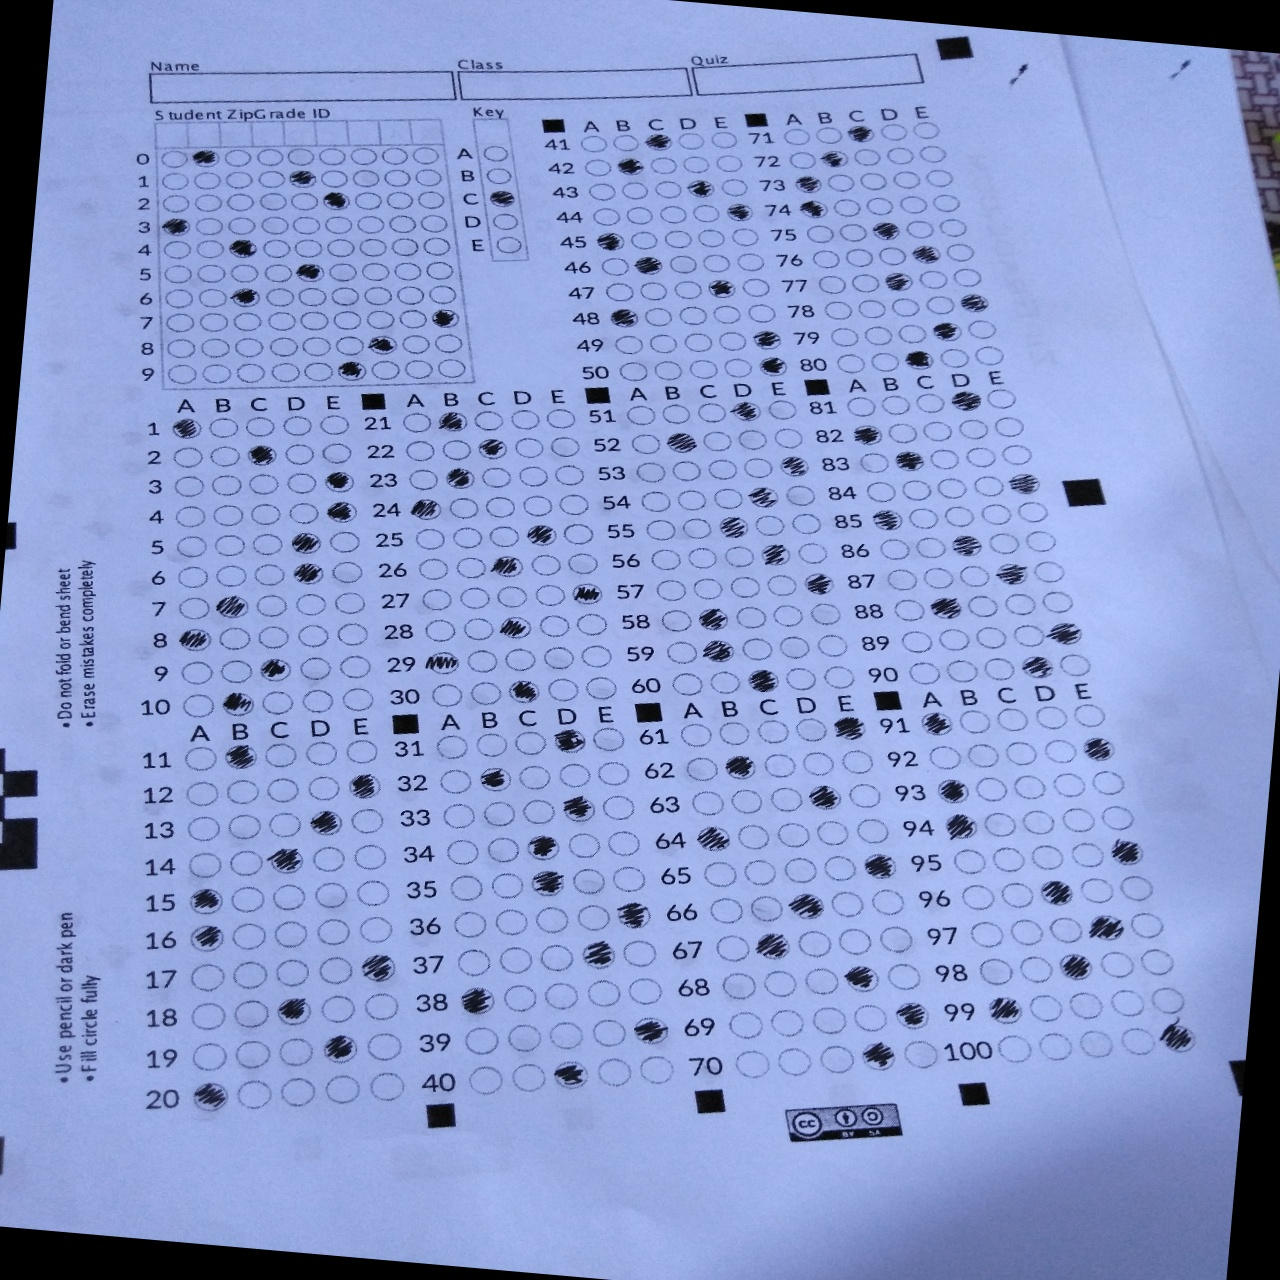not-c: (1148, 982, 1194, 1017), (1026, 990, 1073, 1026), (1105, 986, 1150, 1022), (989, 1032, 1034, 1068), (1133, 942, 1179, 978), (804, 1002, 850, 1037), (726, 1046, 771, 1081), (1073, 1028, 1119, 1062), (723, 1007, 768, 1042), (1061, 988, 1105, 1023), (516, 795, 561, 829), (360, 1029, 406, 1063), (763, 1005, 809, 1039), (769, 1046, 815, 1080), (448, 908, 492, 942), (482, 833, 526, 867), (537, 941, 581, 975), (451, 945, 496, 979), (320, 1073, 365, 1107), (361, 990, 406, 1024), (635, 1051, 680, 1085), (544, 1017, 588, 1051), (588, 1016, 633, 1050), (898, 1039, 942, 1073), (715, 971, 760, 1005), (849, 999, 893, 1033), (975, 955, 1020, 989), (1114, 1024, 1158, 1058), (1030, 1029, 1075, 1063), (1096, 949, 1141, 983), (825, 887, 870, 921), (591, 1054, 636, 1087), (353, 876, 396, 910), (608, 862, 652, 896), (530, 903, 573, 937), (227, 956, 271, 990), (188, 998, 231, 1032), (232, 996, 275, 1030), (227, 920, 271, 954), (188, 960, 231, 994), (736, 855, 779, 888), (801, 964, 844, 998), (771, 817, 815, 851), (515, 763, 559, 796), (571, 900, 615, 933), (561, 829, 606, 862), (498, 981, 543, 1014), (459, 1023, 504, 1056), (272, 956, 316, 989), (365, 1070, 409, 1103), (277, 1076, 321, 1109), (313, 992, 358, 1024), (313, 953, 358, 986), (311, 917, 355, 949), (308, 879, 353, 912), (350, 914, 395, 947), (884, 960, 928, 993), (876, 922, 920, 955), (851, 813, 896, 846), (709, 931, 754, 964), (1022, 840, 1067, 873), (1005, 915, 1049, 948), (1068, 699, 1112, 731), (492, 905, 535, 939), (227, 883, 270, 917), (813, 1043, 857, 1076), (604, 826, 647, 859), (597, 792, 640, 825), (567, 864, 611, 897), (484, 870, 527, 903), (506, 1061, 550, 1094), (493, 945, 537, 978), (232, 1039, 275, 1071), (620, 938, 663, 971), (626, 976, 669, 1009), (266, 881, 309, 914), (268, 919, 312, 952), (778, 853, 822, 886), (794, 926, 837, 959), (832, 925, 876, 958), (818, 853, 862, 886), (503, 1022, 547, 1054), (274, 1037, 319, 1069), (1076, 874, 1121, 906), (1126, 910, 1171, 941), (949, 880, 994, 912), (742, 893, 787, 925), (964, 920, 1009, 951), (465, 1063, 508, 1096), (188, 1040, 230, 1073), (581, 976, 624, 1009), (812, 815, 855, 847), (539, 980, 583, 1012), (1067, 837, 1110, 869), (1043, 915, 1087, 947), (1015, 954, 1058, 986), (988, 845, 1032, 877), (716, 971, 760, 1002), (1115, 874, 1159, 905), (993, 878, 1037, 908), (234, 1080, 277, 1111), (731, 821, 774, 852), (866, 885, 908, 917), (704, 896, 748, 926), (695, 859, 738, 890), (948, 847, 992, 878), (757, 968, 801, 999), (592, 726, 634, 756), (682, 753, 722, 784), (690, 576, 730, 607), (815, 631, 855, 662), (905, 659, 945, 690), (222, 776, 263, 806), (448, 872, 489, 903), (821, 661, 862, 692), (772, 633, 813, 663), (968, 622, 1009, 653), (260, 741, 302, 770), (433, 733, 475, 762), (186, 851, 229, 880), (182, 813, 224, 843), (348, 806, 390, 836), (471, 730, 513, 760), (436, 765, 478, 795), (799, 749, 839, 779), (971, 774, 1010, 804), (839, 747, 879, 777), (845, 781, 885, 811), (1019, 804, 1058, 835), (994, 704, 1034, 735), (1058, 804, 1098, 835), (1049, 769, 1089, 799), (1088, 767, 1128, 797), (1098, 802, 1138, 832), (688, 788, 728, 818), (805, 600, 845, 631), (653, 605, 693, 635), (659, 638, 699, 668), (934, 624, 974, 654), (897, 625, 937, 655), (979, 654, 1019, 685), (794, 538, 833, 568), (789, 510, 829, 540), (302, 772, 343, 802), (554, 762, 595, 791), (513, 729, 554, 758), (444, 837, 485, 866), (440, 803, 481, 832), (764, 785, 805, 815), (964, 741, 1005, 770), (1032, 703, 1073, 733), (1056, 649, 1097, 679), (779, 479, 821, 509), (308, 845, 350, 873), (263, 775, 305, 803), (980, 810, 1019, 840), (676, 720, 715, 750), (668, 668, 707, 699), (784, 665, 823, 695), (760, 751, 799, 781), (754, 719, 794, 748), (955, 707, 995, 736), (1009, 770, 1049, 799), (1001, 736, 1041, 765), (724, 787, 764, 816), (714, 719, 754, 748), (689, 574, 729, 604), (738, 634, 778, 663), (670, 484, 710, 513), (227, 849, 268, 877), (225, 812, 266, 840), (263, 811, 304, 839), (352, 842, 393, 870), (184, 779, 225, 808), (481, 799, 522, 828), (593, 760, 634, 788), (515, 764, 556, 792), (651, 576, 692, 604), (942, 658, 983, 686), (1042, 737, 1081, 767), (794, 716, 832, 745), (926, 744, 965, 774), (709, 665, 748, 694), (1028, 558, 1067, 587), (646, 544, 685, 573), (667, 456, 706, 485), (724, 571, 763, 600), (495, 583, 535, 611), (297, 655, 336, 683), (478, 464, 517, 492), (560, 520, 599, 549), (452, 554, 491, 583), (584, 674, 622, 702), (1008, 622, 1047, 651), (1021, 527, 1060, 556), (731, 602, 770, 631), (720, 542, 758, 570), (708, 483, 747, 511), (702, 456, 741, 484), (738, 454, 777, 482), (748, 511, 787, 539), (563, 549, 602, 576), (554, 490, 594, 517), (515, 463, 554, 490), (577, 642, 617, 669), (543, 675, 583, 702), (502, 647, 542, 674), (291, 591, 331, 618), (338, 653, 377, 680), (343, 738, 383, 765), (250, 561, 290, 588), (216, 658, 256, 685), (175, 595, 215, 622), (1037, 588, 1075, 617), (763, 572, 801, 600), (331, 559, 369, 586), (552, 463, 591, 490), (519, 492, 558, 519), (482, 493, 520, 520), (483, 523, 522, 550), (448, 524, 486, 551), (427, 682, 465, 709), (418, 586, 457, 613), (538, 644, 577, 670), (573, 610, 612, 636), (465, 678, 504, 704), (530, 583, 568, 610), (535, 612, 573, 639), (464, 647, 503, 674), (459, 617, 498, 644), (456, 585, 495, 612), (299, 688, 338, 715), (293, 621, 332, 648), (338, 686, 376, 713), (334, 621, 373, 648), (331, 590, 369, 617), (183, 745, 222, 772), (302, 738, 341, 765), (259, 689, 298, 716), (254, 625, 293, 652), (253, 592, 292, 619), (217, 624, 256, 651), (213, 563, 252, 590), (179, 693, 218, 720), (171, 564, 210, 591), (676, 515, 715, 542), (769, 602, 808, 629), (526, 551, 564, 578), (328, 529, 366, 556), (424, 615, 462, 642), (178, 658, 216, 685), (416, 556, 452, 583), (626, 430, 662, 457), (934, 474, 971, 501), (885, 566, 921, 593), (633, 459, 669, 486), (913, 535, 949, 561), (735, 425, 771, 452), (912, 389, 948, 416), (879, 392, 915, 418), (625, 402, 661, 429), (685, 544, 719, 572), (893, 595, 928, 622), (644, 517, 679, 544), (979, 501, 1014, 527), (920, 564, 955, 591), (966, 592, 1001, 619), (1003, 588, 1039, 615), (921, 418, 956, 445), (982, 384, 1017, 411), (770, 425, 805, 452), (925, 445, 960, 472), (399, 408, 435, 434), (511, 435, 547, 461), (440, 437, 476, 463), (448, 495, 484, 520), (545, 406, 581, 431), (508, 408, 544, 434), (407, 467, 443, 492), (402, 438, 438, 464), (899, 478, 935, 504), (858, 449, 894, 475), (986, 531, 1022, 557), (990, 414, 1027, 440), (885, 420, 921, 445), (659, 403, 695, 429), (956, 416, 990, 443), (907, 504, 942, 530), (863, 479, 898, 505), (639, 489, 674, 515), (942, 503, 978, 529), (1016, 499, 1051, 525), (958, 561, 993, 587), (1001, 441, 1036, 467), (765, 397, 801, 423), (845, 394, 880, 420), (697, 428, 733, 454), (693, 401, 728, 427), (470, 409, 506, 434), (878, 537, 914, 561), (972, 474, 1008, 498), (280, 414, 314, 440), (286, 501, 320, 526), (411, 526, 447, 551), (962, 444, 998, 469), (282, 442, 316, 467), (316, 411, 350, 436), (252, 532, 286, 557), (210, 503, 244, 527), (173, 535, 207, 559), (173, 504, 207, 529), (321, 442, 355, 467), (549, 435, 583, 459), (282, 471, 316, 496), (316, 166, 350, 190), (350, 190, 384, 213), (256, 191, 290, 215), (248, 502, 282, 525), (245, 472, 279, 496), (210, 474, 244, 497), (171, 445, 205, 469), (971, 343, 1005, 367), (234, 360, 266, 384), (156, 148, 189, 171), (284, 147, 316, 170), (481, 141, 513, 164), (400, 332, 433, 355), (358, 236, 390, 259), (394, 284, 427, 307), (389, 259, 422, 282), (382, 190, 415, 213), (427, 282, 459, 306), (292, 237, 325, 260), (162, 264, 195, 287), (230, 311, 263, 334), (196, 286, 229, 309), (263, 286, 295, 309), (209, 445, 241, 469), (172, 475, 205, 498), (719, 175, 751, 198), (645, 331, 678, 354), (661, 229, 694, 252), (656, 204, 689, 227), (699, 252, 731, 275), (804, 223, 837, 246), (618, 361, 651, 384), (583, 155, 615, 178), (869, 350, 901, 374), (835, 350, 867, 374), (828, 325, 860, 348), (856, 169, 888, 192), (890, 168, 922, 191), (881, 143, 914, 166), (878, 123, 911, 147), (915, 142, 948, 165), (850, 271, 883, 294), (843, 245, 876, 268), (264, 309, 297, 333), (365, 309, 399, 332), (161, 240, 195, 263), (159, 171, 193, 193), (213, 533, 247, 556), (903, 218, 937, 240), (949, 266, 983, 288), (942, 241, 976, 264), (930, 192, 964, 215), (489, 211, 520, 234), (402, 358, 434, 381), (326, 237, 358, 260), (425, 259, 457, 282), (192, 168, 224, 191), (164, 311, 196, 334), (225, 215, 257, 238), (224, 191, 256, 215), (257, 169, 288, 192), (223, 170, 254, 193), (198, 309, 230, 333), (300, 334, 332, 358), (298, 309, 329, 333), (673, 130, 704, 154), (735, 251, 767, 274), (728, 225, 760, 248), (707, 129, 738, 152), (653, 359, 685, 382), (644, 305, 675, 328), (676, 304, 708, 327), (649, 155, 681, 178), (710, 302, 742, 326), (692, 202, 723, 225), (789, 148, 821, 171), (877, 243, 908, 266), (966, 316, 998, 340), (937, 216, 968, 239), (831, 196, 863, 219), (823, 171, 855, 195), (315, 145, 348, 168), (379, 147, 411, 169), (482, 165, 515, 188), (332, 308, 365, 331), (328, 284, 361, 306), (361, 285, 394, 307), (359, 261, 392, 284), (290, 215, 322, 237), (288, 191, 321, 213), (166, 363, 199, 386), (162, 287, 195, 309), (229, 263, 261, 285), (195, 263, 227, 285), (268, 361, 301, 383), (302, 360, 335, 382), (257, 215, 290, 237), (244, 416, 277, 438), (207, 417, 240, 440), (754, 165, 787, 188), (577, 132, 610, 155), (745, 302, 778, 325), (740, 277, 772, 299), (712, 151, 744, 173), (631, 230, 663, 252), (622, 205, 655, 227), (618, 181, 651, 203), (610, 132, 642, 155), (682, 332, 715, 354), (666, 253, 699, 275), (722, 356, 755, 379), (695, 226, 728, 248), (822, 300, 855, 322), (779, 125, 812, 148), (590, 206, 622, 229), (584, 181, 617, 203), (935, 346, 968, 368), (852, 147, 885, 169), (924, 294, 956, 316), (922, 166, 955, 189), (863, 324, 896, 346), (856, 297, 888, 319), (897, 322, 930, 345), (348, 166, 381, 189), (896, 193, 930, 215), (888, 297, 922, 318), (334, 333, 365, 356), (233, 336, 265, 359), (222, 147, 253, 169), (253, 148, 285, 170), (410, 144, 442, 166), (435, 358, 467, 380), (433, 332, 464, 354), (388, 236, 420, 258), (421, 236, 452, 258), (369, 358, 401, 380), (192, 237, 224, 259), (192, 193, 224, 216), (199, 362, 231, 384), (297, 285, 328, 307), (639, 280, 670, 302), (687, 358, 719, 380), (672, 280, 703, 302), (654, 178, 686, 200), (716, 328, 748, 350), (911, 121, 942, 143), (816, 274, 847, 297), (810, 248, 842, 271), (613, 335, 645, 358), (599, 256, 631, 278), (918, 268, 949, 291), (813, 125, 845, 148), (347, 145, 380, 166), (493, 234, 526, 256), (328, 261, 361, 282), (354, 213, 387, 234), (396, 309, 429, 331), (158, 193, 191, 215), (199, 338, 232, 359), (679, 152, 712, 173), (602, 281, 635, 302), (862, 195, 894, 216), (377, 166, 414, 185), (415, 166, 445, 189), (418, 213, 449, 236), (416, 189, 447, 211), (195, 216, 225, 238), (263, 263, 293, 285), (263, 238, 293, 260), (321, 215, 353, 236), (388, 213, 420, 234), (164, 338, 196, 359), (267, 336, 299, 358), (838, 222, 869, 243)
taken-c: (270, 993, 315, 1028), (842, 962, 887, 996), (1034, 876, 1080, 910), (190, 1080, 234, 1114), (1084, 911, 1129, 945), (859, 850, 903, 884), (982, 993, 1026, 1027), (913, 707, 956, 741), (831, 712, 874, 745), (804, 779, 847, 813), (455, 983, 499, 1016), (319, 1033, 363, 1065), (856, 1040, 900, 1073), (1157, 1022, 1201, 1055), (785, 890, 830, 922), (892, 999, 937, 1032), (1054, 952, 1098, 985), (938, 809, 982, 842), (1107, 837, 1151, 870), (577, 939, 622, 971), (358, 952, 403, 983), (1080, 731, 1122, 765), (550, 1058, 593, 1091), (928, 774, 972, 806), (345, 772, 389, 804), (527, 869, 572, 900), (184, 885, 229, 917), (305, 808, 349, 839), (753, 931, 795, 964), (266, 845, 309, 877), (612, 900, 656, 931), (184, 922, 229, 953), (1016, 653, 1058, 685), (629, 1017, 673, 1048), (524, 832, 564, 864), (559, 794, 600, 824), (926, 593, 968, 622), (1046, 619, 1085, 649), (1006, 468, 1046, 498), (890, 445, 930, 475), (993, 559, 1032, 588), (948, 531, 987, 560), (173, 626, 213, 654), (475, 765, 515, 794), (423, 649, 462, 678), (220, 690, 259, 719), (799, 568, 838, 597), (257, 656, 297, 683), (497, 614, 535, 642), (552, 728, 590, 756), (745, 666, 783, 694), (222, 743, 260, 770), (695, 825, 733, 852), (506, 678, 544, 704), (722, 754, 760, 781), (869, 508, 906, 535), (524, 522, 560, 549), (699, 636, 735, 663), (948, 388, 985, 415), (928, 318, 965, 345), (958, 290, 994, 316), (900, 347, 937, 374), (441, 465, 477, 491), (215, 594, 251, 620), (290, 561, 326, 587), (570, 581, 606, 607), (695, 606, 731, 632), (716, 515, 753, 540), (745, 485, 783, 510), (794, 197, 831, 222), (290, 530, 325, 556), (322, 469, 358, 495), (758, 542, 794, 567), (435, 409, 471, 434), (325, 501, 361, 525), (245, 443, 281, 468), (170, 415, 206, 440), (491, 554, 527, 579), (789, 172, 826, 196), (818, 147, 852, 172), (908, 241, 942, 267), (408, 496, 443, 520), (850, 423, 885, 448), (881, 268, 915, 293), (475, 437, 510, 461), (727, 400, 762, 423), (757, 354, 792, 377), (706, 278, 741, 301), (870, 220, 905, 244), (336, 359, 370, 382), (663, 431, 699, 454), (846, 122, 878, 147), (188, 147, 220, 170), (608, 307, 641, 331), (614, 155, 647, 178), (367, 333, 400, 356), (778, 455, 812, 477), (751, 328, 785, 350), (683, 177, 715, 200), (229, 286, 260, 309), (429, 307, 462, 329), (159, 216, 192, 238), (285, 166, 318, 189), (321, 191, 354, 213), (644, 130, 674, 154), (633, 254, 665, 277), (594, 230, 626, 252), (227, 238, 259, 260), (293, 261, 326, 282), (483, 188, 516, 209), (724, 200, 755, 223)
